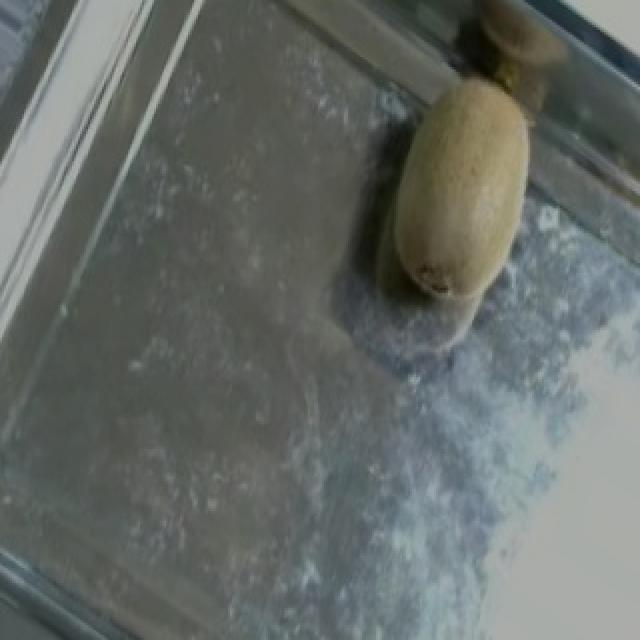Fruit: (344, 45, 560, 325)
